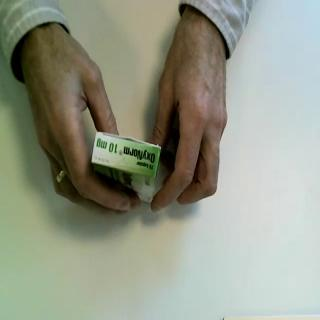oxynorm10mg: (91, 130, 164, 207)
